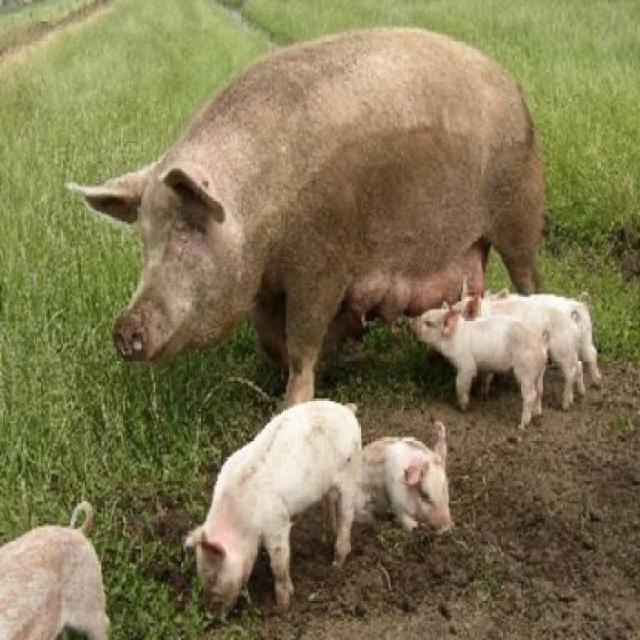pig: (68, 26, 602, 619), (0, 497, 108, 638)
